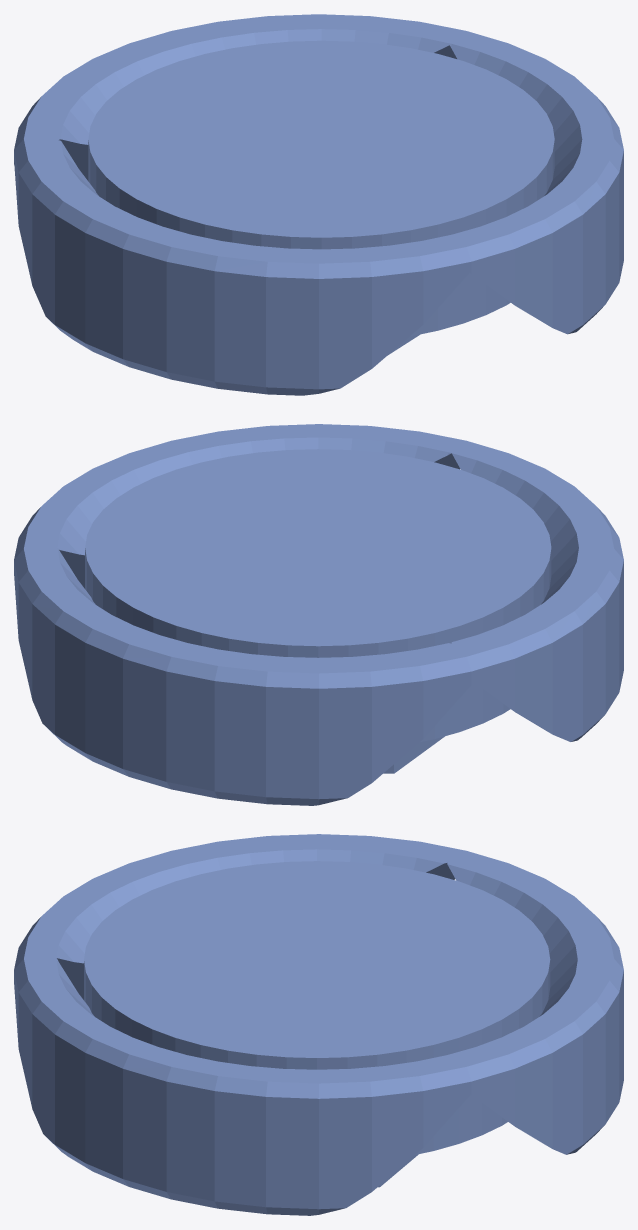
File: track_attack.glb
3 views of the same model, one above another, from view 1: azimuth 30°, elevation 25°; view 2: azimuth 150°, elevation 25°; view 3: azimuth 270°, elevation 25° (orthographic).
Parts seen in each view (by area): view 1: obj_3; view 2: obj_3; view 3: obj_3.
Part boxes in pixels (bbox=[...]): obj_3: bbox=[14, 14, 623, 395]; obj_3: bbox=[14, 424, 623, 805]; obj_3: bbox=[14, 834, 623, 1215].
Bounding box in the file's own units: 25 × 8 × 25.
